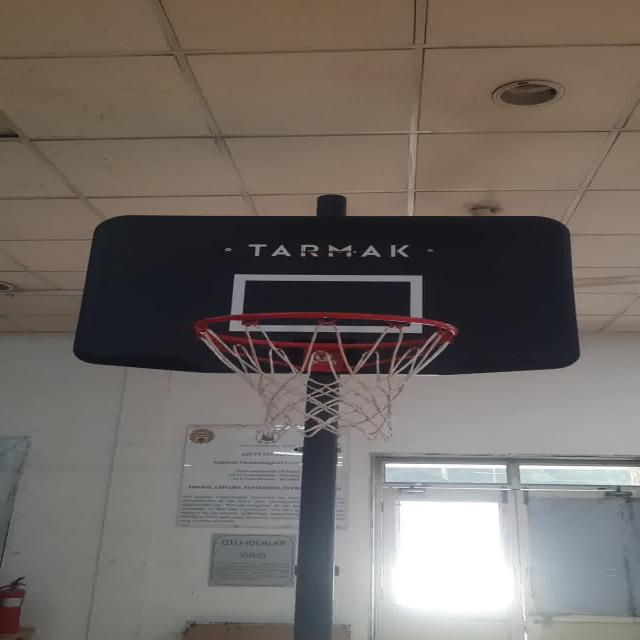objects: (188, 310, 462, 442), (236, 276, 424, 330)
